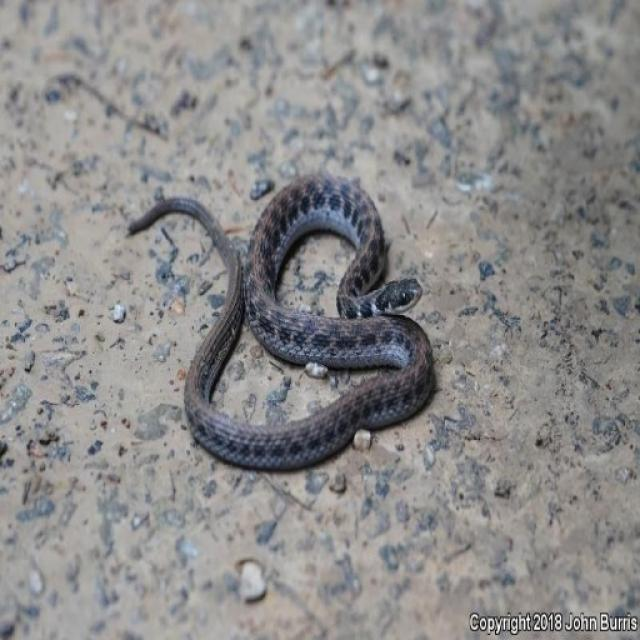snake: (111, 162, 474, 484)
